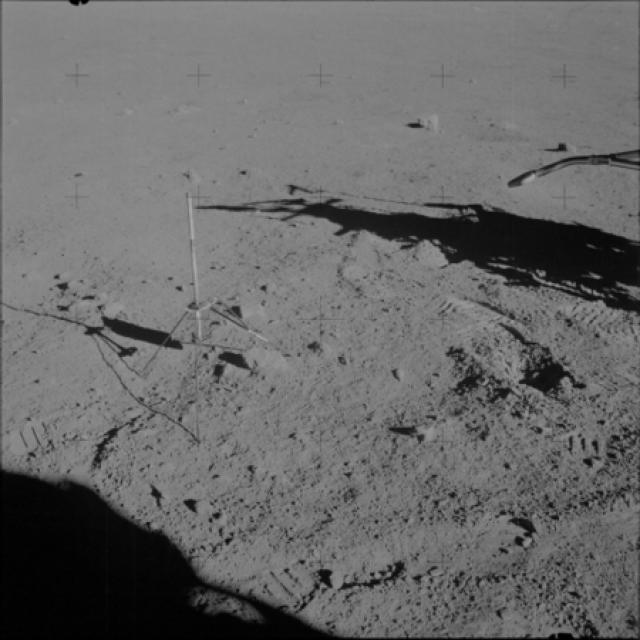rock: (49, 272, 127, 332), (213, 342, 285, 385), (232, 296, 266, 327), (406, 111, 438, 134)
